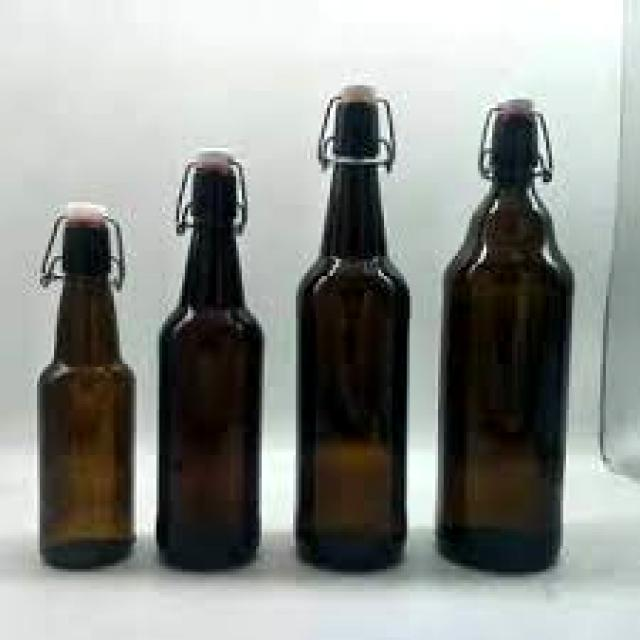Glass: (434, 96, 581, 577), (290, 90, 415, 572), (155, 147, 267, 577), (35, 204, 138, 572)
